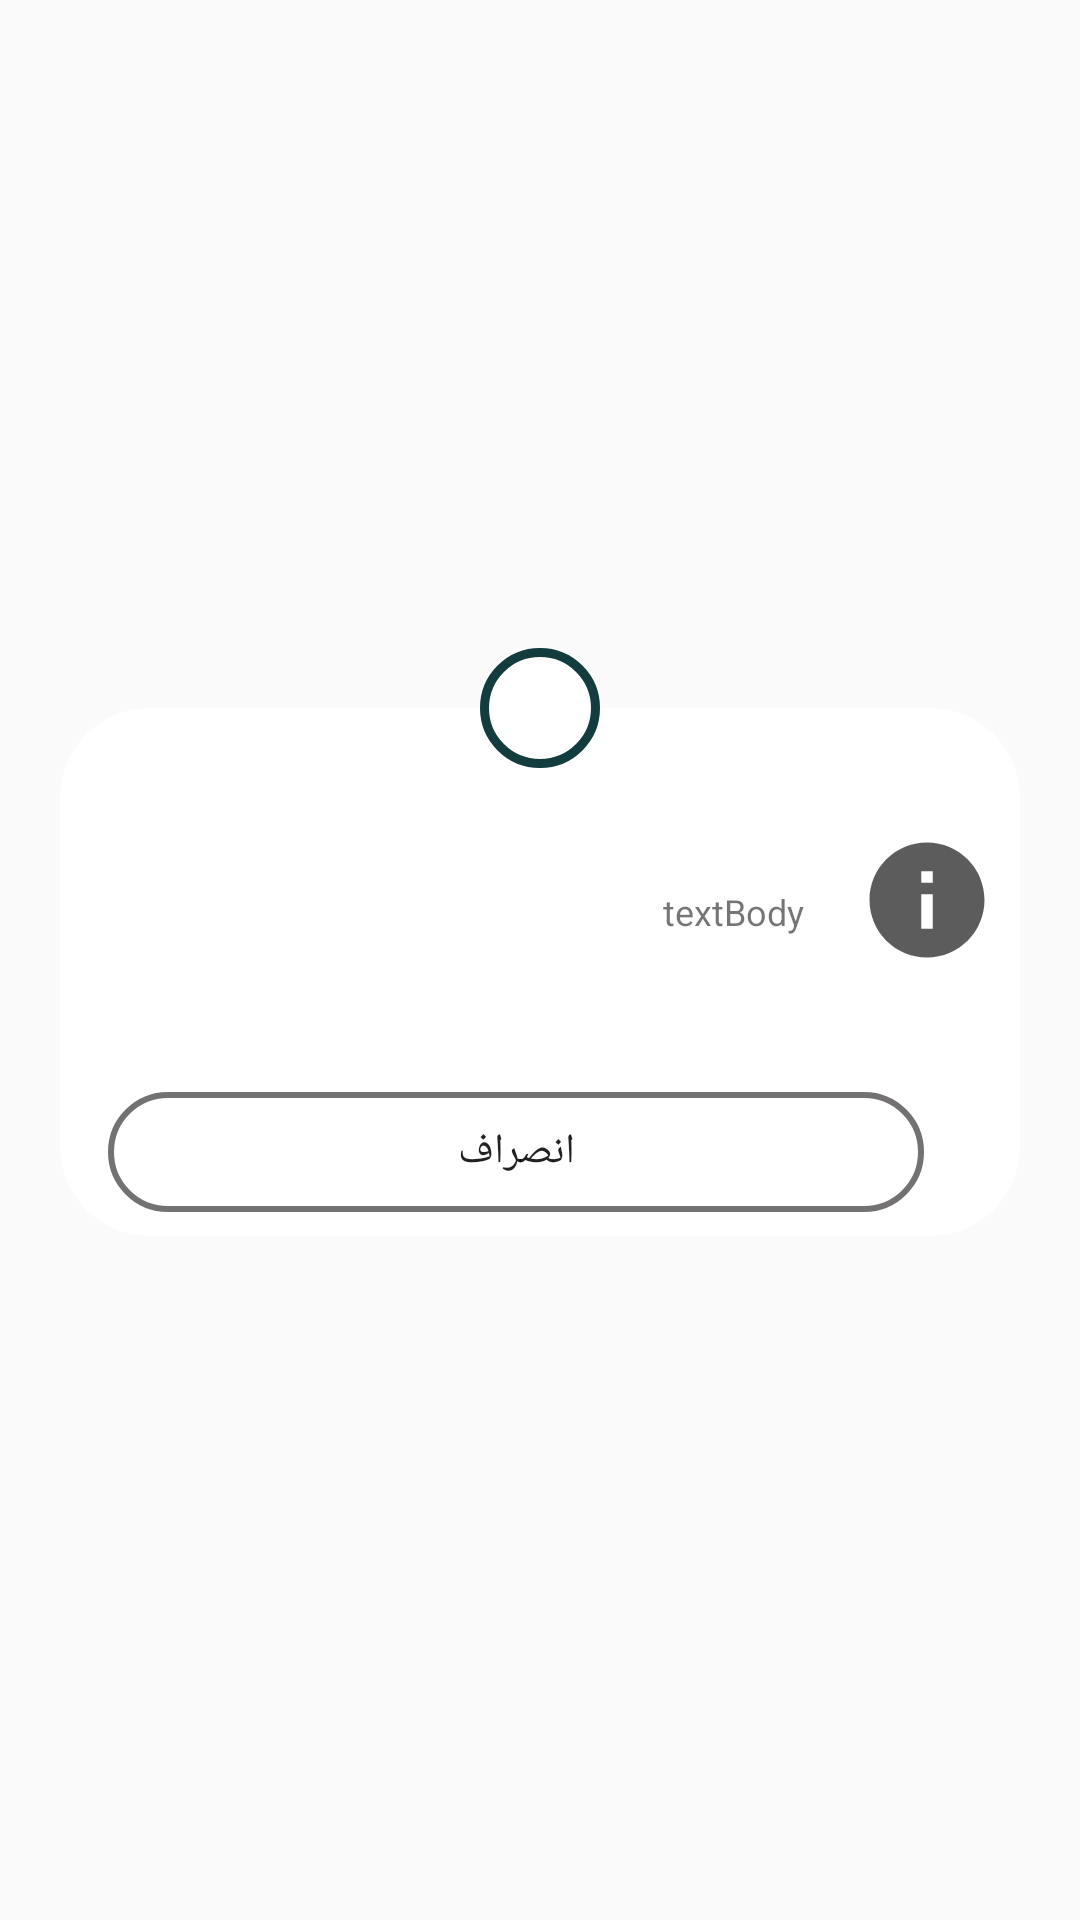

Icon click points for this 1080 × 1920 phone screenshot, format (x=x, y=y):
info: (x=927, y=900)
